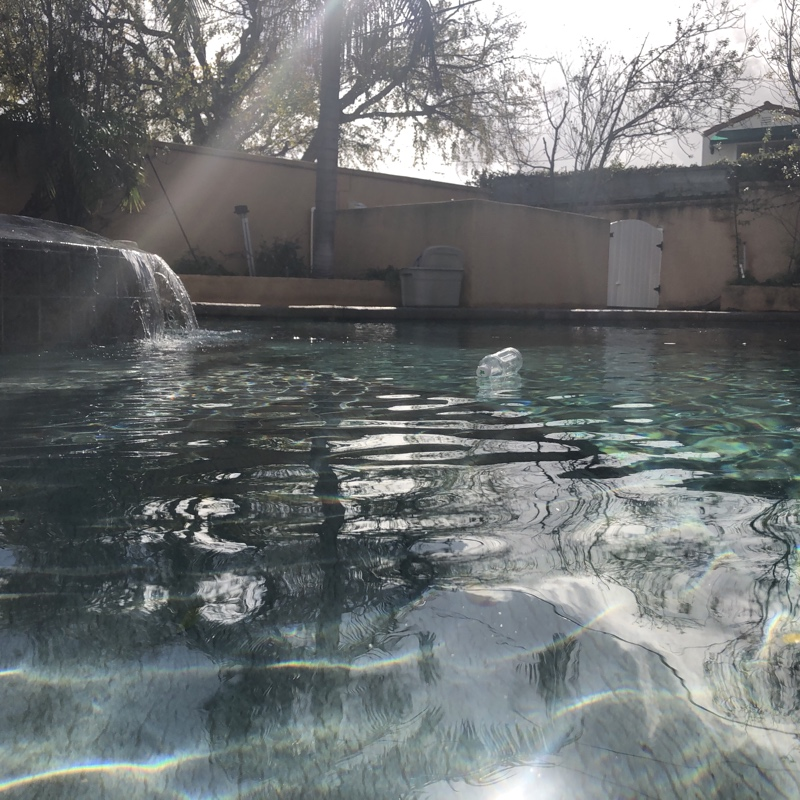Plastic Bottle: (472, 347, 525, 386)
